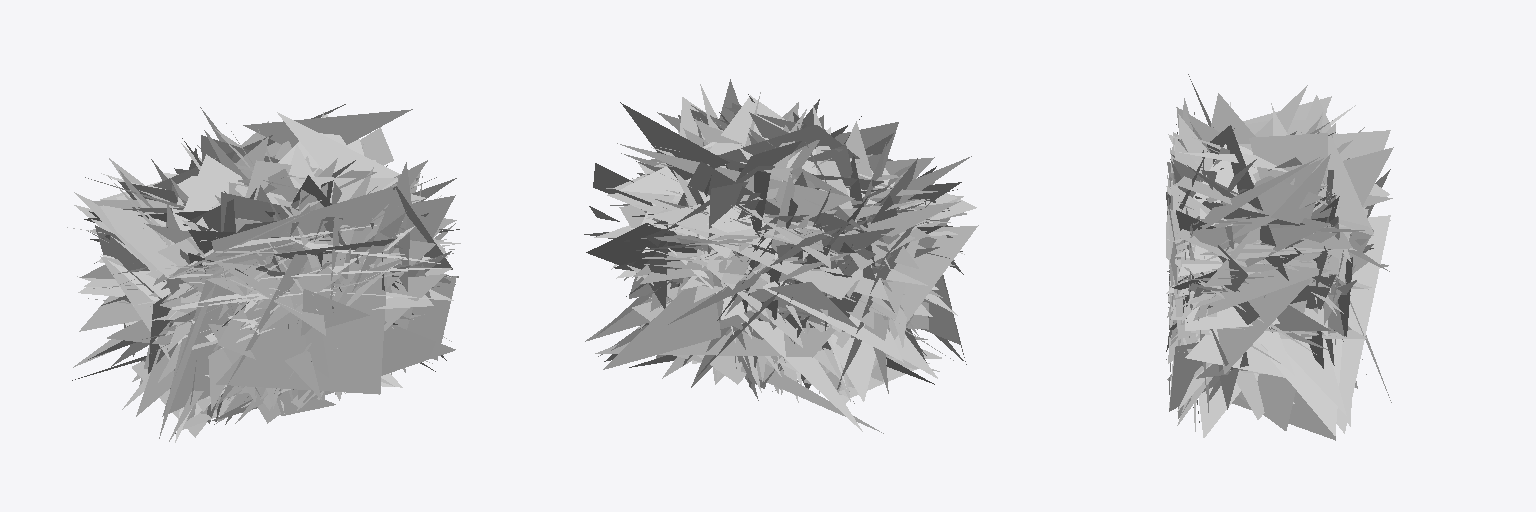
File: scrambled.obj
3 views of the same model, side by side, from view 1: azimuth 30°, elevation 25°; view 2: azimuth 150°, elevation 25°; view 3: azimuth 270°, elevation 25° (orthographic).
Bounding box in the file's own units: 2.73 × 1.97 × 1.7.